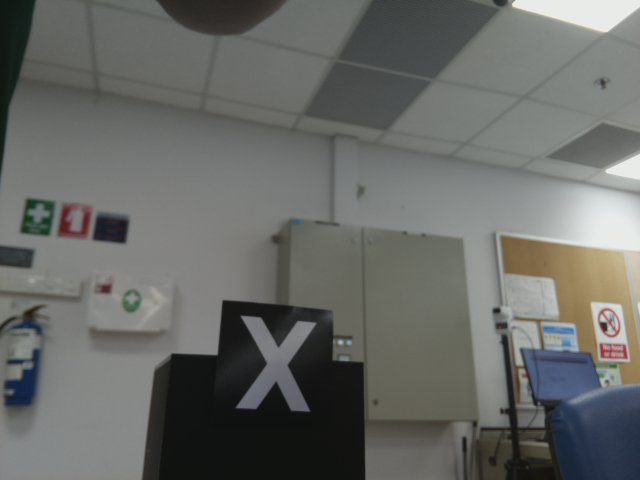x: (232, 307, 317, 414)
